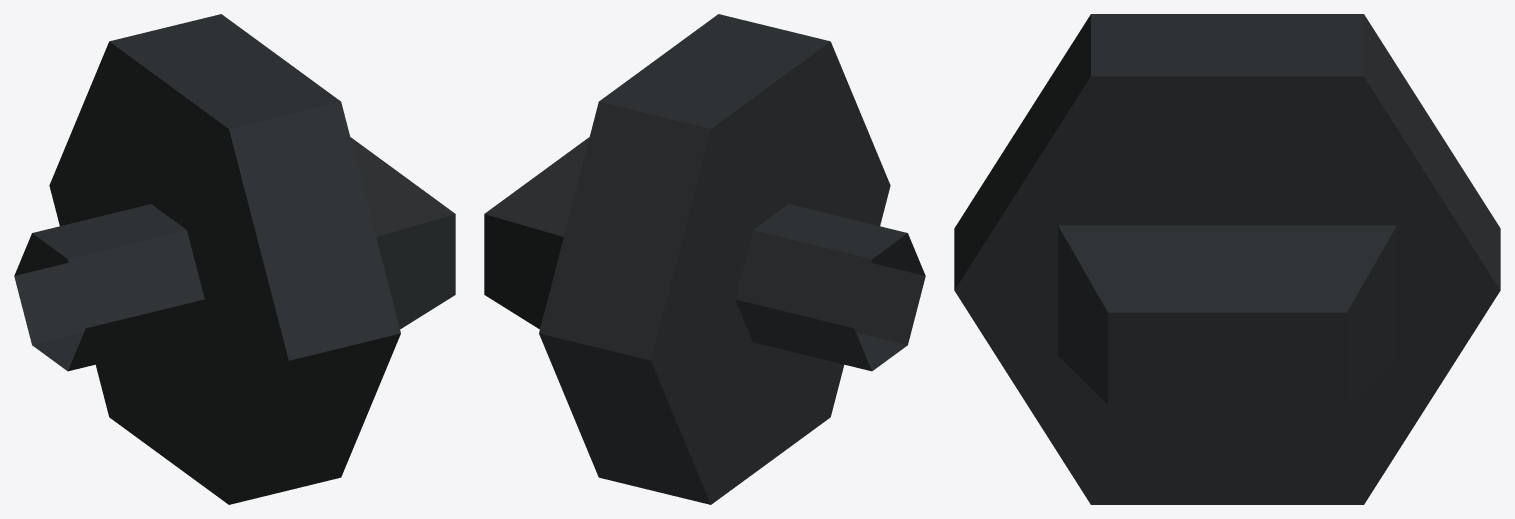
The model's file is SM_Prop_Kitchen_Kebab_Rotisserie_01_Knob_2.obj.
3 renders of one model, left to right at view 1: azimuth 30°, elevation 25°; view 2: azimuth 150°, elevation 25°; view 3: azimuth 270°, elevation 25°, orthographic. The views are drawn at different scales.
Parts seen in each view (by area): view 1: SM_Prop_Kitchen_Kebab_Rotisserie_01_Knob_2_0; view 2: SM_Prop_Kitchen_Kebab_Rotisserie_01_Knob_2_0; view 3: SM_Prop_Kitchen_Kebab_Rotisserie_01_Knob_2_0.
Part boxes in pixels (x1,y1,x2,y2): SM_Prop_Kitchen_Kebab_Rotisserie_01_Knob_2_0: (14,14,455,504); SM_Prop_Kitchen_Kebab_Rotisserie_01_Knob_2_0: (484,14,925,504); SM_Prop_Kitchen_Kebab_Rotisserie_01_Knob_2_0: (954,14,1500,504).
Size of the model in its own units: 0.0644 by 0.0655 by 0.0756.
Materials: 1 (1 with a texture image).
